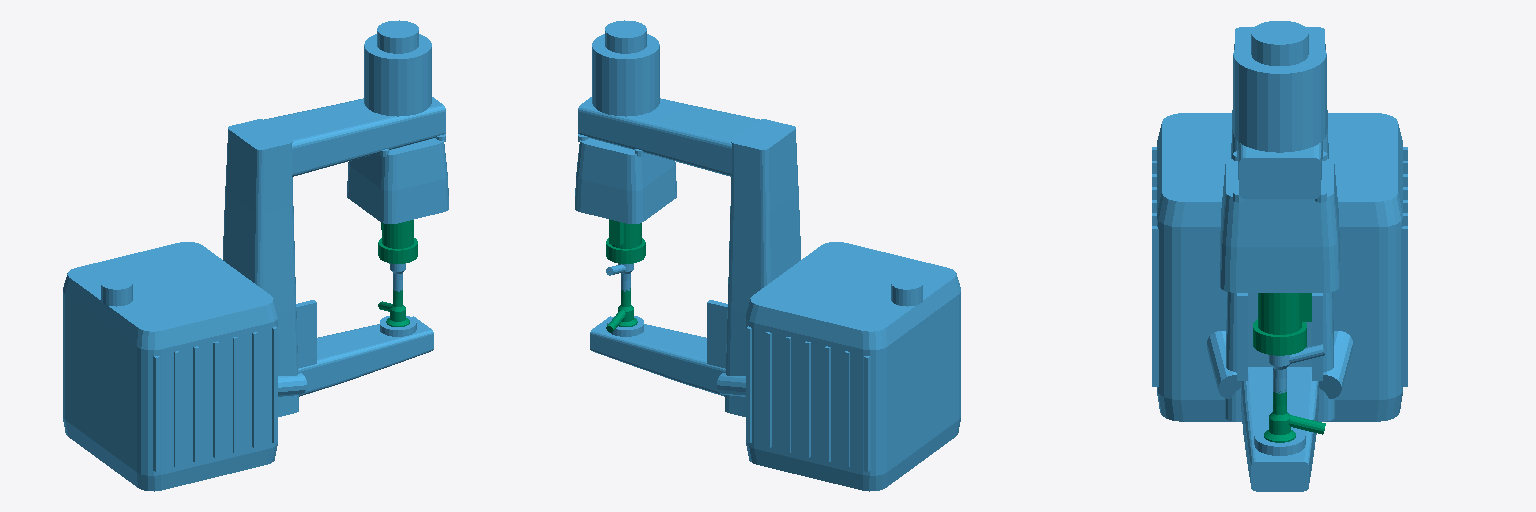
The robot description file, URDF, robot "weld_gun_c1":
<?xml version="1.0"?>
<!--
  Weld Gun C1: 小型サーボスポットガン (C ガン / 直動式) — botrail-catalog-builder の
  weld-line-requests.md #2「C ガン (prismatic) は次」に対応する自作アセット (CC0-1.0)。

  **これは特定メーカー製品の複製ではない。** 寸法図を公開しているメーカーは無いため
  (weld-gun-x1 で OBARA / NIMAK / Milco / ARO / Electroweld を確認済み)、
  **外観は独自著作のまま、寸法と仕様だけを実機の公表値に一致させてある**:

  - **のど 230 x 225 mm / トランス 100 kVA / 質量 84 kg** = Milco XR モジュラー
    C ガン **637-12402-15** の公表値 (ERS Engineering 掲載の Milco 資料)。
    同ライブラリの他の C ガンは 180x345 (80 kg) と 230x315 (90 kg) なので、
    225 mm は Milco C ガン系で最も浅いのど深さにあたる
  - 電極キャップ = **ISO 5821 Type F, 16 x 20** (d1=16, l1=20, R1=40, テーパ 1:10,
    Fmax=4 kN)。加圧力 4.0 kN はこの Fmax に一致させてある。
    Milco の枠強度は 1100 lbf = 4.9 kN なので、**制限しているのはキャップ側**
  - ストローク 80 mm = HERON DB6-110-C16027 (C 型サーボガン) の 78 mm 相当。
    TECNA の C ガン 3020/3024 の max stroke 75-100 mm とも整合
  - 質量・重心は FANUC R-2000iC/165F の手首許容値に収まることを確認済み
    (84 kg / J5 180 Nm・11.0 kg·m^2 / J6 23 Nm・5.6 kg·m^2 に対し、
     許容 165 kg / 940 Nm・89 kg·m^2 / 490 Nm・46 kg·m^2)。
    **トランスはマウント後方に置いてある** — 喉と同じ高さに座らせると打点まわりで
    真っ先に当たるのがトランスになるうえ、重心がツール軸から外れて J6 が重くなる

  weld-gun-x1 との使い分け: x1 はのど 400 mm でフランジの奥まで届くが手首が
  打点から遠くなる。c1 はのど 225 mm で TCP が mount から 0.468 m (x1 は 0.660 m)
  なので、**手首を打点に寄せられる代わりに深いところへは入らない**。

  visual: tools/generate_meshes.py が生成する ../meshes/*.stl (手続き的著作)
  collision: URDF プリミティブのみ。**のど (throat) の開口を保つのが目的**で、
          builder はプリミティブを素通しするため VHACD で開口が塞がれない。
          アクチュエータは中央にラムの通るボアがあるので左右 2 枚 + 上蓋で表し、
          ラムの掃引域は electrode_ram 側の collision が受け持つ (二重計上しない)。
          可撓物 (キックレスケーブル・水配管) には collision 無し

  慣例 (botrail カタログ):
  - Z-up / メートル。root リンク mount = フランジ接触面 (+Z がツール内側)。
    attach_tool はツールを root で溶接する
  - tcp = 固定電極先端 (body 側の固定リンク)
  - electrode_joint は prismatic で **正方向 = 開** (q=0 で電極間 5 mm、
    q=0.080 m で電極間 85 mm)。x1 の revolute と符号の意味を揃えてある
-->
<robot name="weld_gun_c1">

  <link name="mount"/>

  <link name="body">
    <visual>
      <geometry>
        <mesh filename="../meshes/body.stl"/>
      </geometry>
    </visual>

    <collision><!-- mount flange -->
      <origin xyz="0 0 0.008"/>
      <geometry><cylinder radius="0.08" length="0.016"/></geometry>
    </collision>
    <collision><!-- MFDC transformer (behind the mount, clear of the throat plane) -->
      <origin xyz="-0.17 0 0.16"/>
      <geometry><box size="0.26 0.29 0.28"/></geometry>
    </collision>
    <collision><!-- spine, mount to C-frame column -->
      <origin xyz="0.04 0 0.155"/>
      <geometry><box size="0.2 0.156 0.19"/></geometry>
    </collision>
    <collision><!-- C-frame column -->
      <origin xyz="0.165 0 0.295"/>
      <geometry><box size="0.07 0.116 0.47"/></geometry>
    </collision>
    <collision><!-- lower arm -->
      <origin xyz="0.3075 0 0.1"/>
      <geometry><box size="0.325 0.09 0.05"/></geometry>
    </collision>
    <collision><!-- upper beam -->
      <origin xyz="0.3425 0 0.5"/>
      <geometry><box size="0.285 0.104 0.06"/></geometry>
    </collision>
    <collision><!-- actuator housing +y (bore left clear for the ram and its receiver) -->
      <origin xyz="0.425 0.053 0.4125"/>
      <geometry><box size="0.12 0.034 0.115"/></geometry>
    </collision>
    <collision><!-- actuator housing -y -->
      <origin xyz="0.425 -0.053 0.4125"/>
      <geometry><box size="0.12 0.034 0.115"/></geometry>
    </collision>
    <collision><!-- actuator housing top (above the ram's full-open position) -->
      <origin xyz="0.425 0 0.455"/>
      <geometry><box size="0.12 0.14 0.03"/></geometry>
    </collision>
    <collision><!-- servo motor -->
      <origin xyz="0.425 0 0.581"/>
      <geometry><cylinder radius="0.055" length="0.102"/></geometry>
    </collision>
    <collision><!-- fixed electrode holder -->
      <origin xyz="0.425 0 0.15"/>
      <geometry><cylinder radius="0.02" length="0.05"/></geometry>
    </collision>
    <collision><!-- fixed cap, ISO 5821 Type F 16x20 -->
      <origin xyz="0.425 0 0.185"/>
      <geometry><cylinder radius="0.009" length="0.02"/></geometry>
    </collision>

    <inertial>
      <origin xyz="0.00816 0 0.21351"/>
      <mass value="80.0"/>
      <inertia ixx="2.18575" ixy="0.0" ixz="-1.57456" iyy="6.30116" iyz="0.0" izz="4.84279"/>
    </inertial>
  </link>

  <link name="electrode_ram">
    <visual>
      <geometry>
        <mesh filename="../meshes/electrode_ram.stl"/>
      </geometry>
    </visual>

    <collision><!-- ram (ball screw) -->
      <origin xyz="0 0 -0.0425"/>
      <geometry><cylinder radius="0.026" length="0.085"/></geometry>
    </collision>
    <collision><!-- holder receiver -->
      <origin xyz="0 0 -0.087"/>
      <geometry><cylinder radius="0.032" length="0.024"/></geometry>
    </collision>
    <collision><!-- moving electrode holder -->
      <origin xyz="0 0 -0.11"/>
      <geometry><cylinder radius="0.02" length="0.05"/></geometry>
    </collision>
    <collision><!-- moving cap, ISO 5821 Type F 16x20 -->
      <origin xyz="0 0 -0.145"/>
      <geometry><cylinder radius="0.009" length="0.02"/></geometry>
    </collision>

    <inertial>
      <origin xyz="0 0 -0.07997"/>
      <mass value="4.0"/>
      <inertia ixx="0.00751" ixy="0.0" ixz="0.0" iyy="0.00751" iyz="0.0" izz="0.00119"/>
    </inertial>
  </link>

  <link name="tcp"/>

  <joint name="body_joint" type="fixed">
    <parent link="mount"/>
    <child link="body"/>
  </joint>

  <joint name="electrode_joint" type="prismatic">
    <origin xyz="0.425 0 0.355"/>
    <parent link="body"/>
    <child link="electrode_ram"/>
    <axis xyz="0 0 1"/>
    <!-- effort = 加圧力 4.0 kN (ISO 5821 ⌀16 の Fmax)、velocity = 0.25 m/s -->
    <limit lower="0" upper="0.080" effort="4000" velocity="0.25"/>
  </joint>

  <joint name="tcp_joint" type="fixed">
    <origin xyz="0.425 0 0.195"/>
    <parent link="body"/>
    <child link="tcp"/>
  </joint>

</robot>

--- What the picture shows (computed from the rendered views, not written in the file) ---
3 views of the same robot in one strip: view 1: azimuth 30°, elevation 25°; view 2: azimuth 150°, elevation 25°; view 3: azimuth 270°, elevation 25° (orthographic).
Robot: weld_gun_c1 — 4 links, 3 joints (1 prismatic, 2 fixed); root link mount; default pose: every joint at zero.
Visible links, largest first — view 1: body, electrode_ram; view 2: body, electrode_ram; view 3: body, electrode_ram.
Boxes of the visible links, bbox=[...] form: body: bbox=[63, 20, 448, 491]; electrode_ram: bbox=[378, 220, 417, 326]; body: bbox=[575, 20, 960, 491]; electrode_ram: bbox=[606, 219, 645, 332]; body: bbox=[1152, 21, 1407, 491]; electrode_ram: bbox=[1253, 293, 1325, 442].
Bounding box of the posed robot: 0.618 × 0.3 × 0.66 m (x, y, z).
2 mesh visuals loaded from 2 distinct referenced files (2 binary STL).
